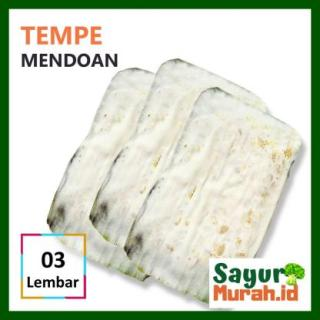Tempe: (47, 56, 304, 303)
